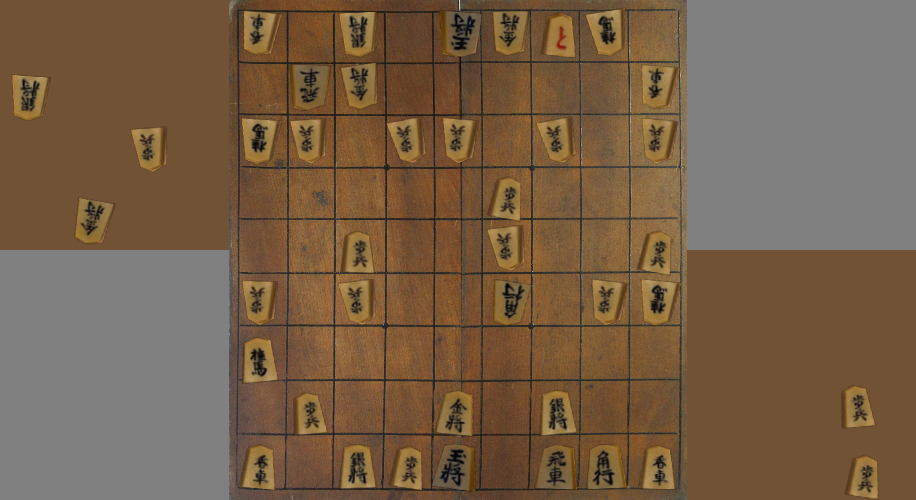A: (434, 445, 473, 490), (588, 445, 625, 488), (436, 392, 472, 436), (537, 446, 574, 488), (341, 445, 375, 488), (244, 339, 277, 382), (242, 446, 274, 489), (544, 14, 575, 57), (643, 447, 674, 489), (295, 393, 326, 434), (641, 232, 671, 274), (490, 178, 520, 220), (391, 448, 421, 489), (544, 392, 574, 433), (343, 232, 373, 272)
B: (442, 12, 481, 56), (292, 65, 329, 109), (587, 10, 622, 55), (388, 118, 423, 162), (342, 64, 376, 109), (494, 281, 529, 324), (243, 119, 277, 163), (643, 280, 677, 324), (244, 12, 279, 54), (538, 118, 572, 161), (340, 13, 374, 56), (643, 119, 676, 162), (340, 280, 373, 323), (243, 281, 276, 324), (444, 118, 476, 162), (644, 66, 677, 108), (494, 12, 527, 54), (291, 119, 323, 162), (490, 227, 520, 269), (595, 280, 624, 322)
C: (847, 456, 878, 498), (843, 387, 873, 428)
D: (76, 199, 114, 243), (13, 76, 49, 120), (132, 127, 165, 171)
